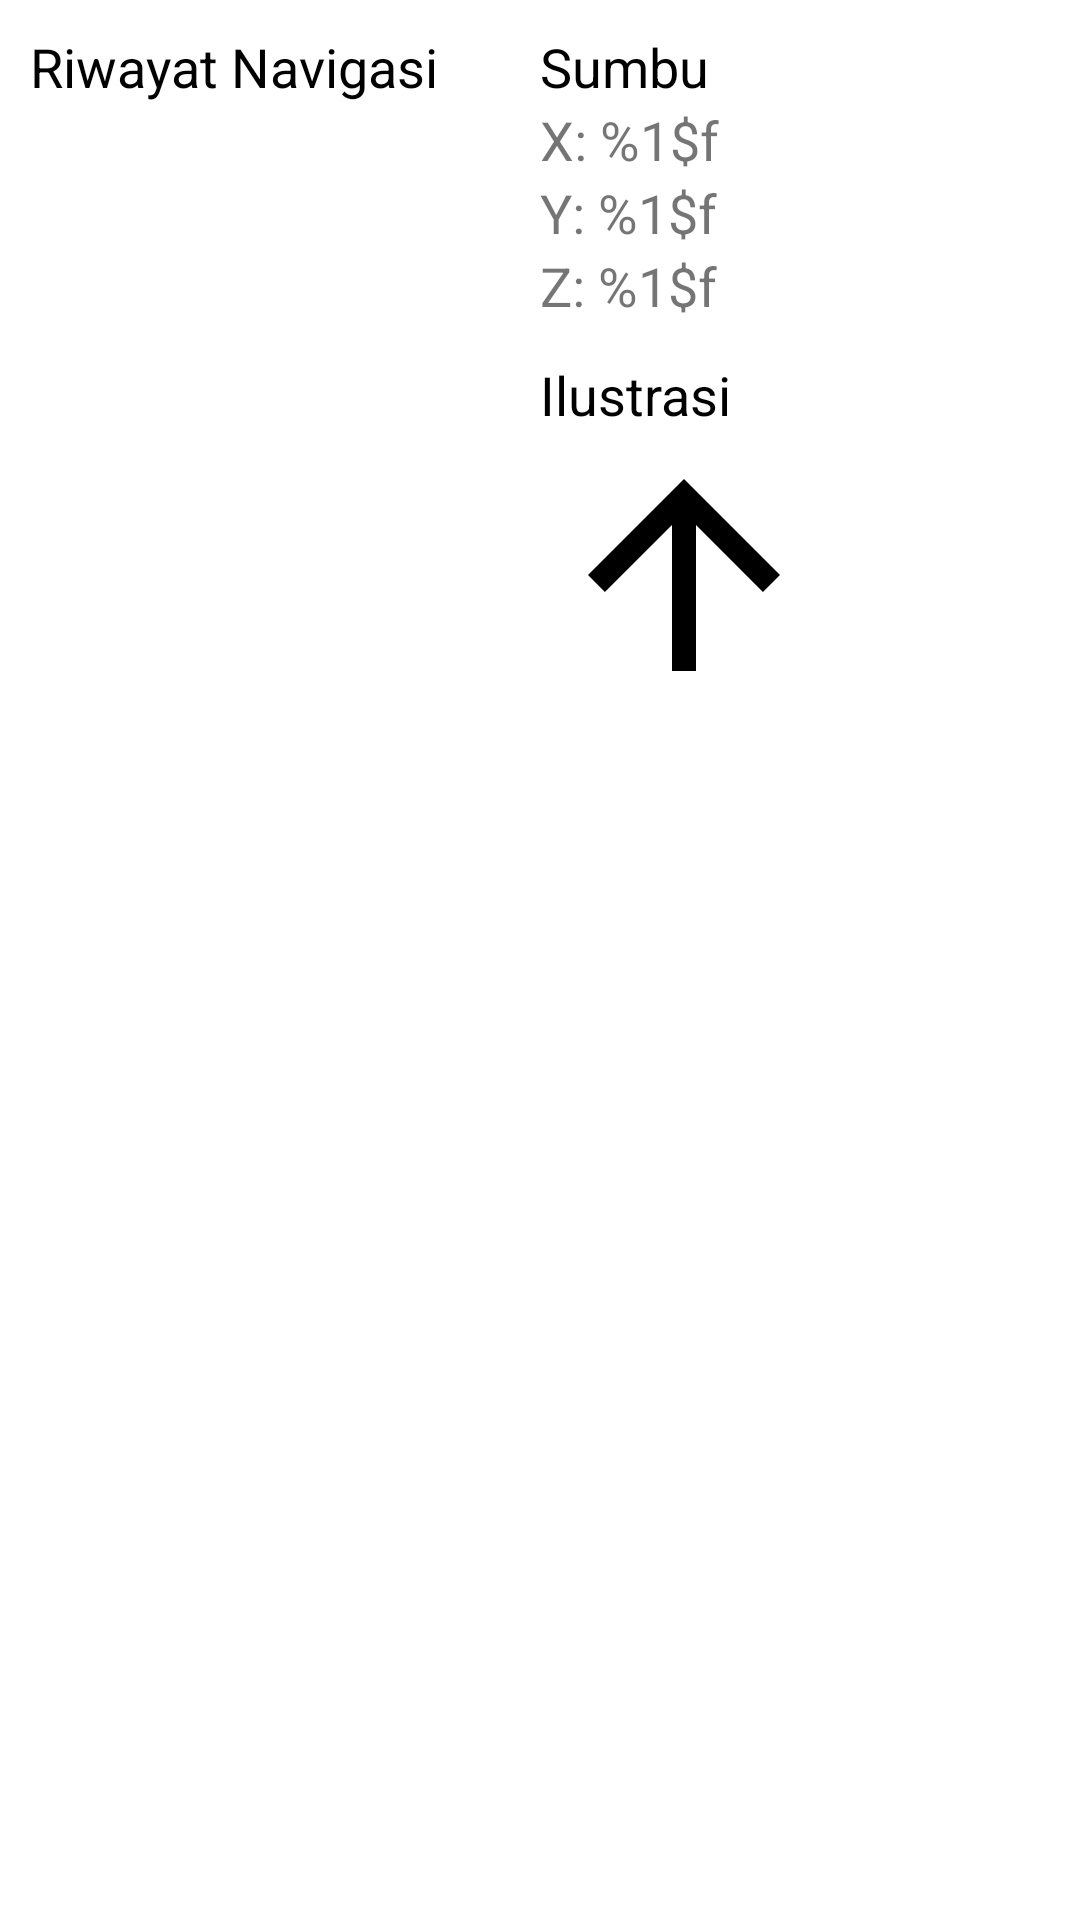

Locate icon controls on the screen. Image size 1080w x 1920h, boxes as rect(x1, y1, x2, y2).
arrow up: rect(588, 479, 780, 671)
